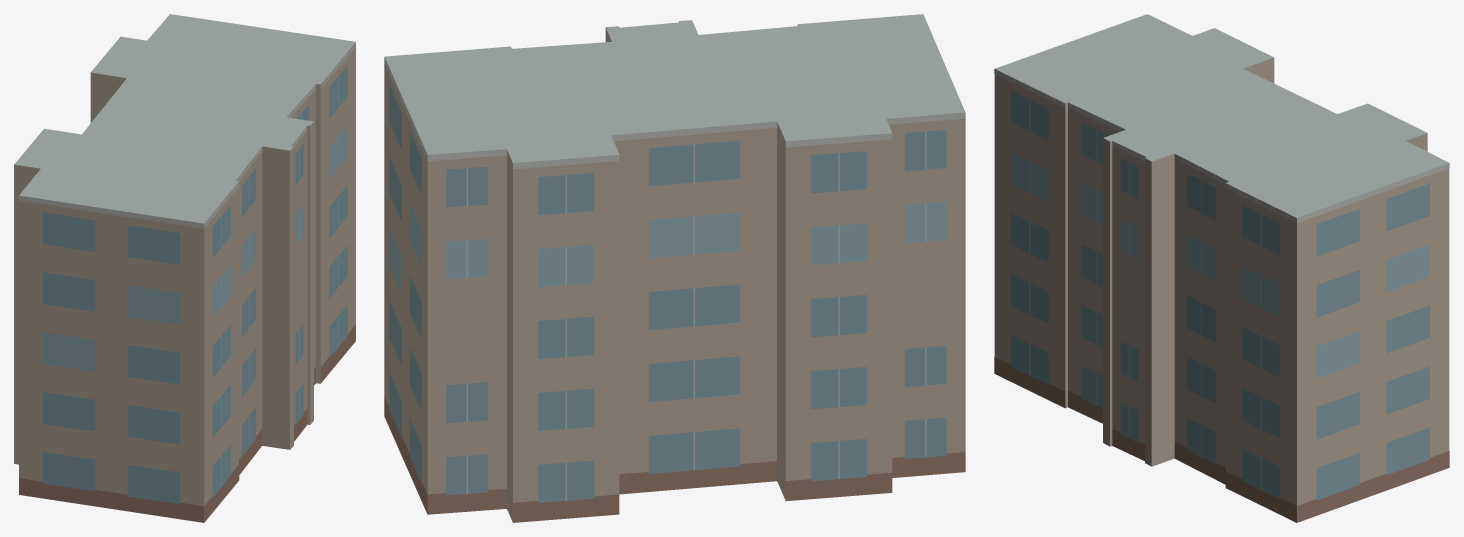
Rendered from survey-upis-32535307.glb.
3 renders of one model, left to right at view 1: azimuth 30°, elevation 25°; view 2: azimuth 150°, elevation 25°; view 3: azimuth 270°, elevation 25°, orthographic. The views are drawn at different scales.
Visible parts, largest first — view 1: survey-upis-32535307.tmp; view 2: survey-upis-32535307.tmp; view 3: survey-upis-32535307.tmp.
Part boxes in pixels (x1=…): survey-upis-32535307.tmp: x1=14, y1=14, x2=355, y2=522; survey-upis-32535307.tmp: x1=384, y1=14, x2=965, y2=522; survey-upis-32535307.tmp: x1=994, y1=14, x2=1449, y2=522.
Size of the model in its own units: 20.55 by 14.32 by 19.37.
